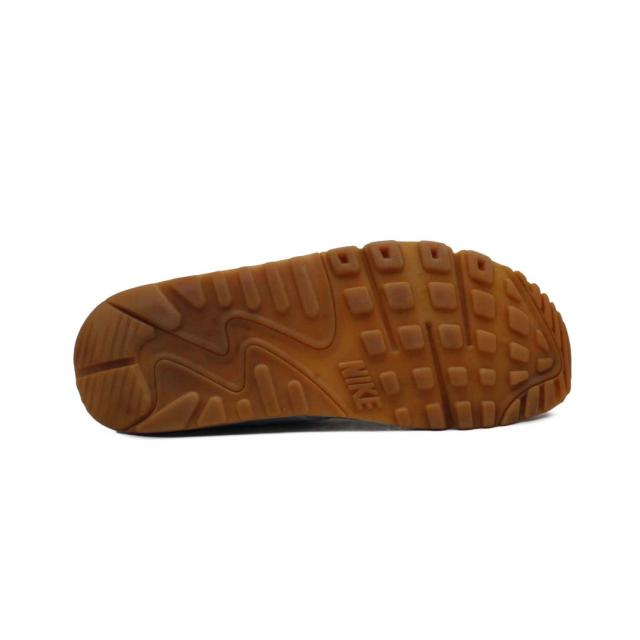outersole: (80, 237, 571, 437)
